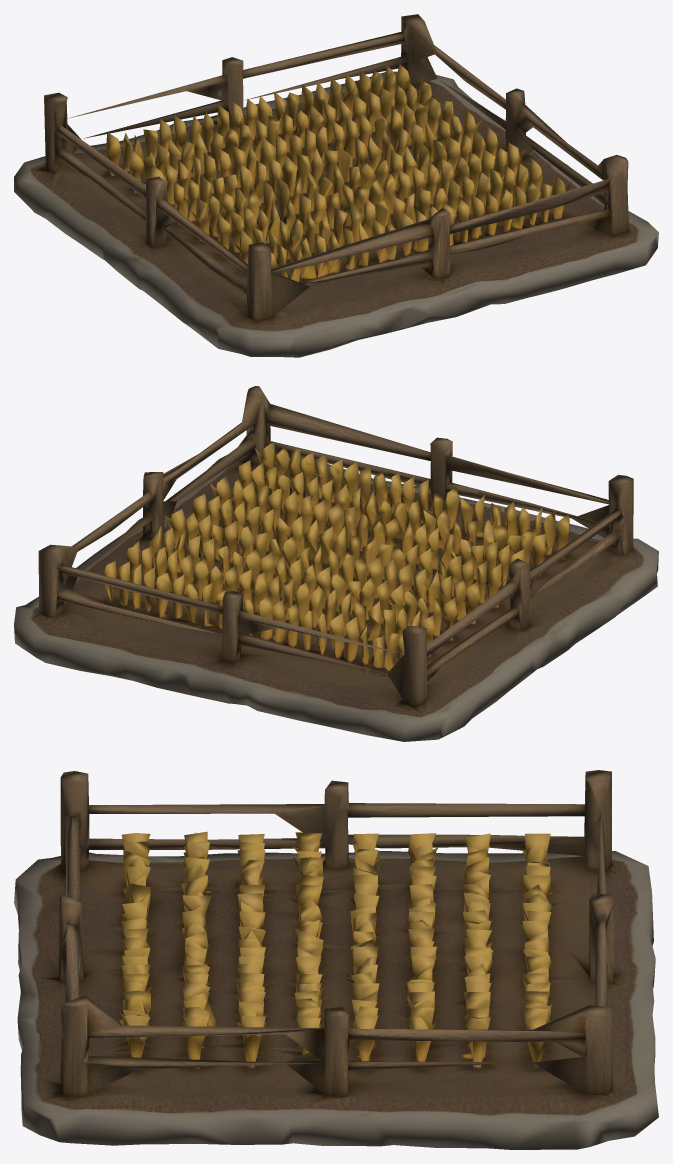
Rendered from farm_field.glb.
3 renders of one model, top to bottom at view 1: azimuth 30°, elevation 25°; view 2: azimuth 150°, elevation 25°; view 3: azimuth 270°, elevation 25°, orthographic. The views are drawn at different scales.
Parts seen in each view (by area): view 1: tripo_node_838e5a05-17bb-40bb-9d23-f26fbd1e834d; view 2: tripo_node_838e5a05-17bb-40bb-9d23-f26fbd1e834d; view 3: tripo_node_838e5a05-17bb-40bb-9d23-f26fbd1e834d.
Part boxes in pixels (bbox=[...]): tripo_node_838e5a05-17bb-40bb-9d23-f26fbd1e834d: bbox=[14, 14, 658, 357]; tripo_node_838e5a05-17bb-40bb-9d23-f26fbd1e834d: bbox=[14, 386, 658, 741]; tripo_node_838e5a05-17bb-40bb-9d23-f26fbd1e834d: bbox=[14, 770, 658, 1149].
Bounding box in the file's own units: 1 × 0.2275 × 0.9983.
Materials: 1 (1 with a texture image).
